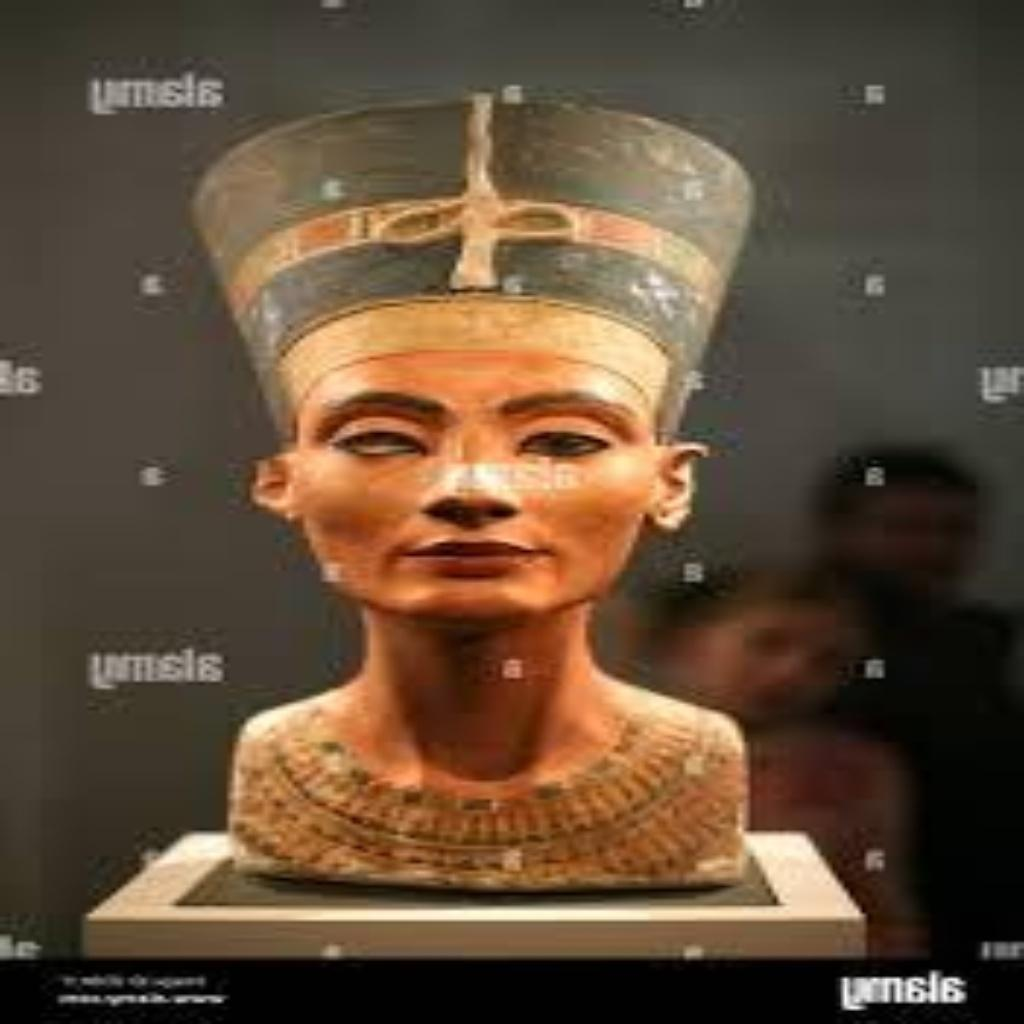Nefertiti: (188, 98, 766, 892)
